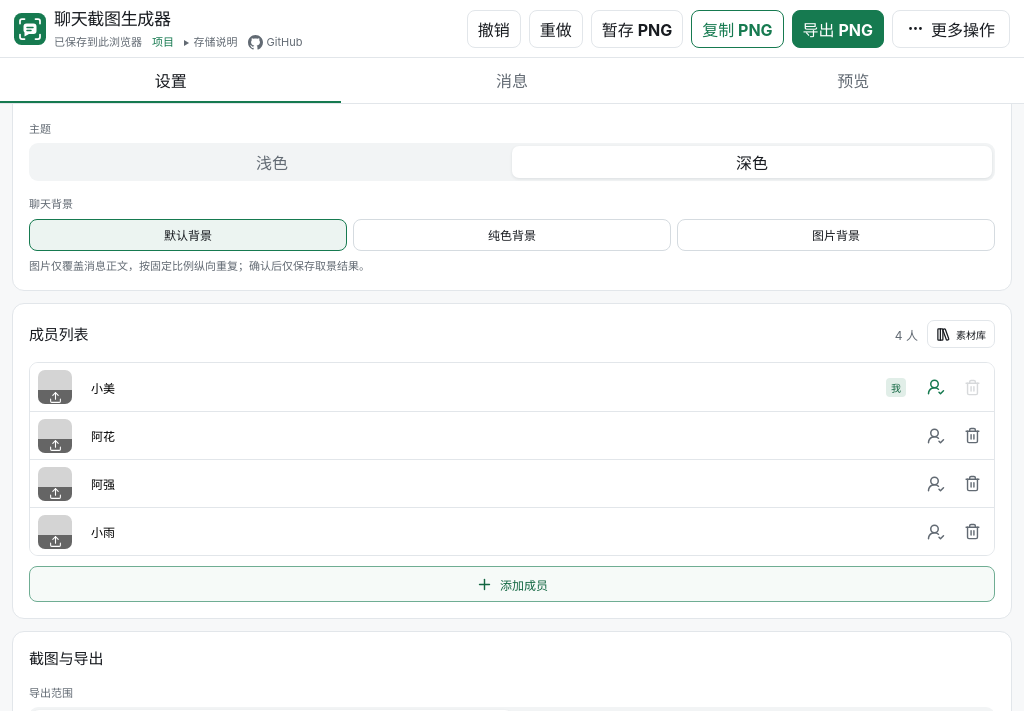
Test case: App › offers a deletion choice for members with messages
(page scrolled)
Click the button named "删除成员：阿花". click: (972, 436)
box: x1=958 y1=422 x2=986 y2=450
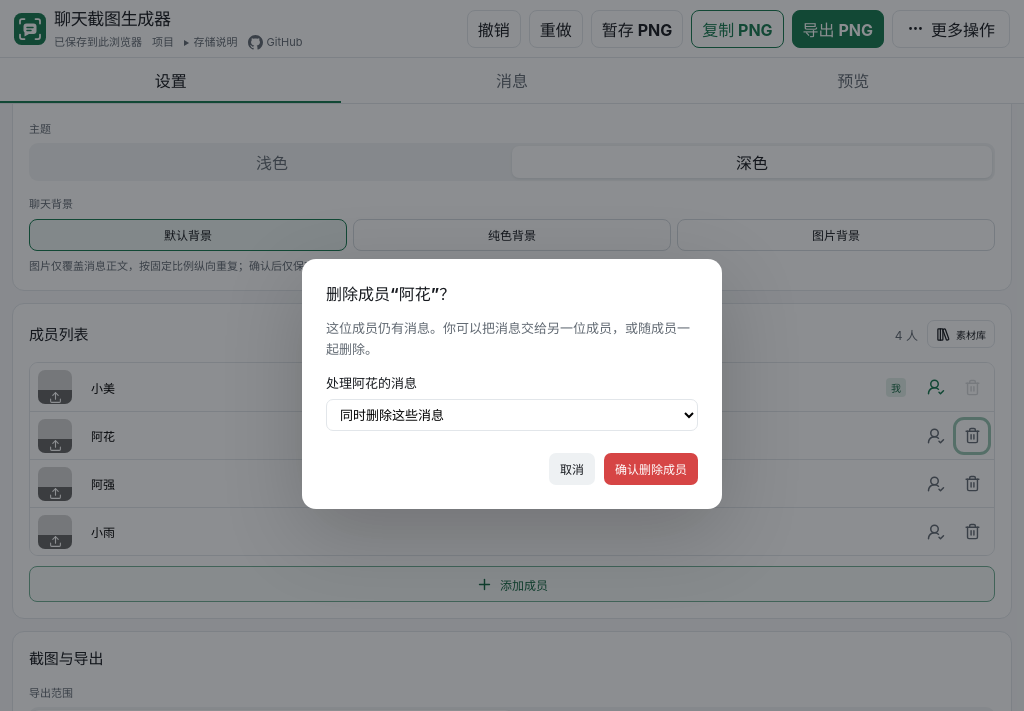
Check: the dialog "删除成员“阿花”？" is shown, box x1=302 y1=259 x2=722 y2=509
Check: the dropdown labelled "处理阿花的消息" is shown, box x1=326 y1=399 x2=698 y2=431
Click the button "确认删除成员". click: (651, 469)
box: x1=604 y1=453 x2=698 y2=485
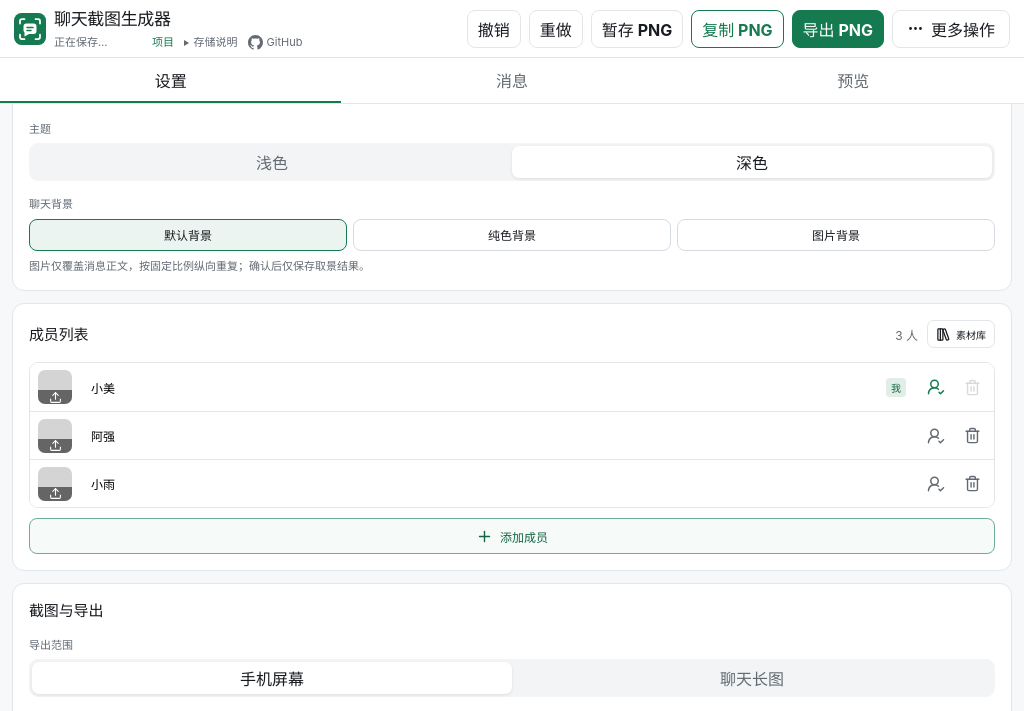
Check: the field labelled "昵称：阿花" is gone
